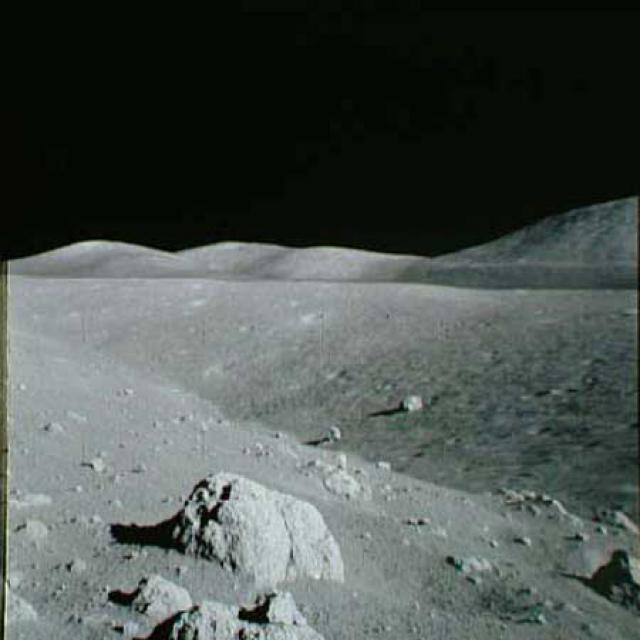crater: (299, 498, 540, 624)
rock: (170, 466, 347, 589), (165, 588, 324, 638), (114, 568, 192, 620), (504, 476, 578, 527), (588, 540, 638, 614), (322, 453, 373, 501), (589, 496, 639, 537), (400, 387, 427, 413)
